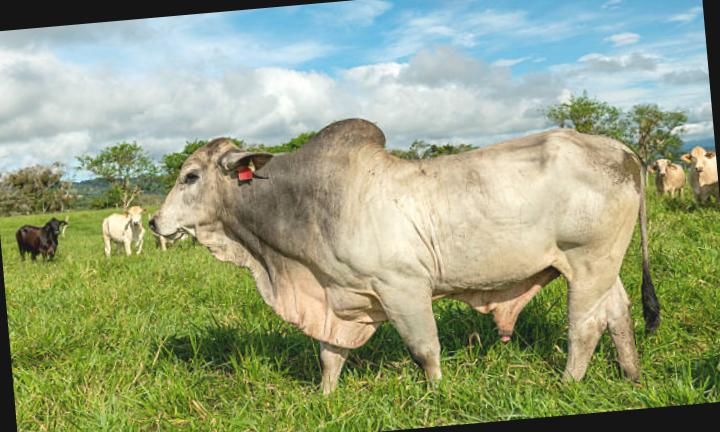Brahman: (150, 118, 644, 392)
